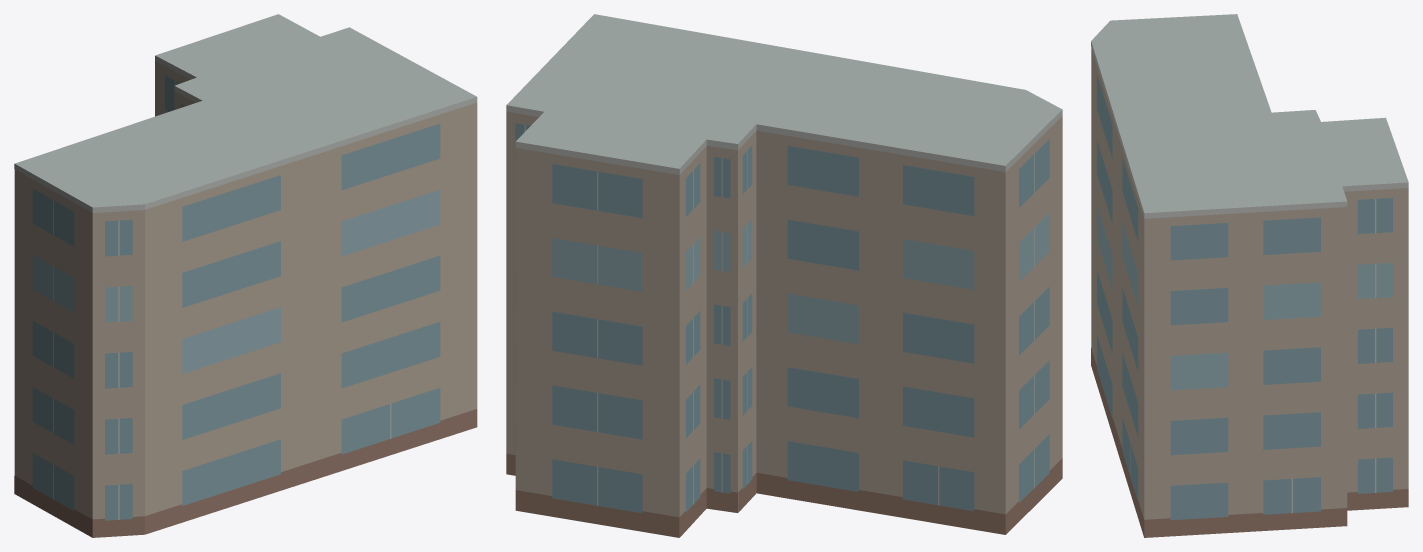
File: survey-upis-32706768.glb
The picture shows the model from 3 angles, left to right: view 1: azimuth 30°, elevation 25°; view 2: azimuth 150°, elevation 25°; view 3: azimuth 270°, elevation 25°; orthographic projection. The views are drawn at different scales.
Parts seen in each view (by area): view 1: survey-upis-32706768.tmp; view 2: survey-upis-32706768.tmp; view 3: survey-upis-32706768.tmp.
Boxes of the visible parts, x1,y1,x2,y2 form: survey-upis-32706768.tmp: (14, 14, 477, 537); survey-upis-32706768.tmp: (506, 14, 1062, 537); survey-upis-32706768.tmp: (1091, 14, 1408, 537).
Bounding box in the file's own units: 18.97 × 14.4 × 12.78.
